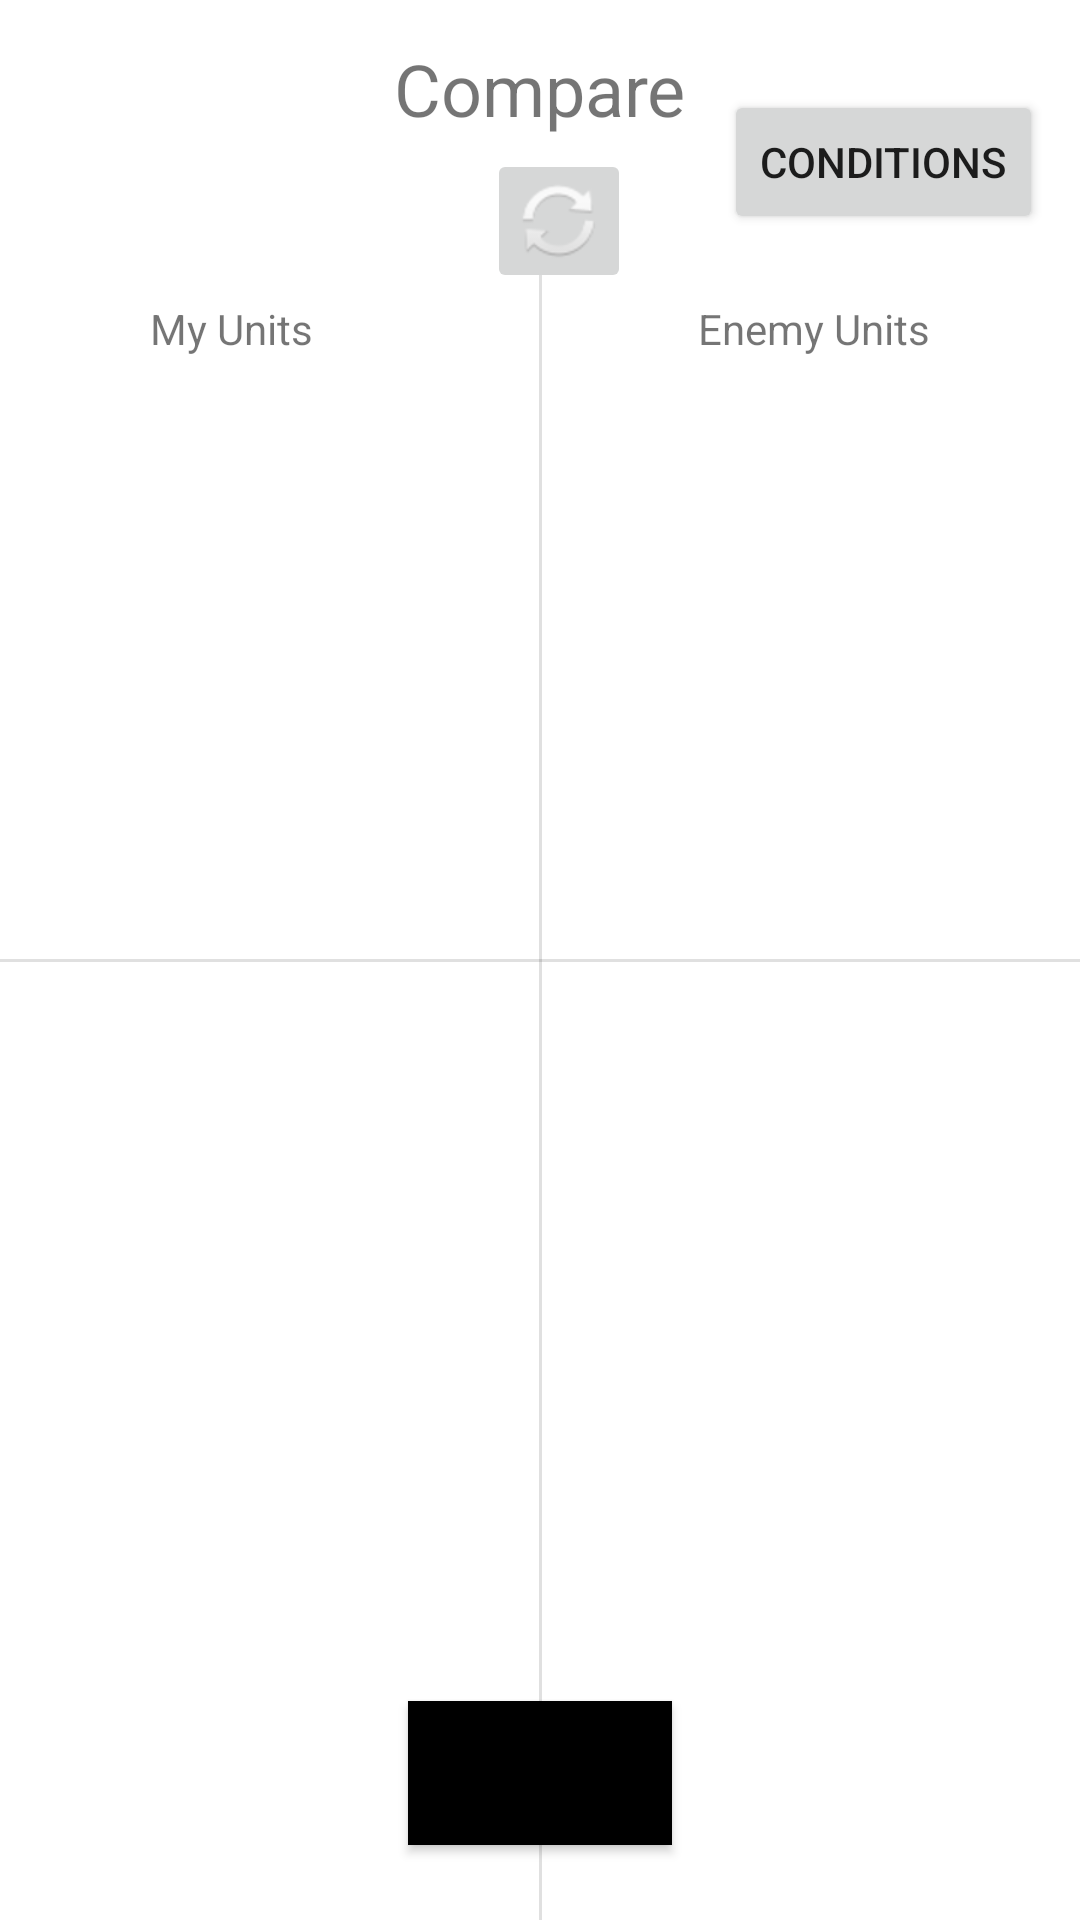

Icon bounding boxes for this 1080px×1920px phone screenshot, format bbox(x1, y1, x2, y2):
popup sync: bbox(499, 167, 619, 293)
